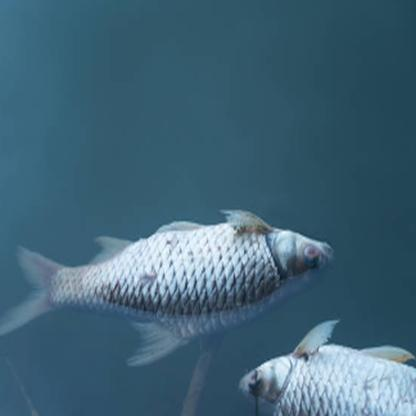deceased fish: (11, 207, 346, 363), (237, 317, 416, 416)
